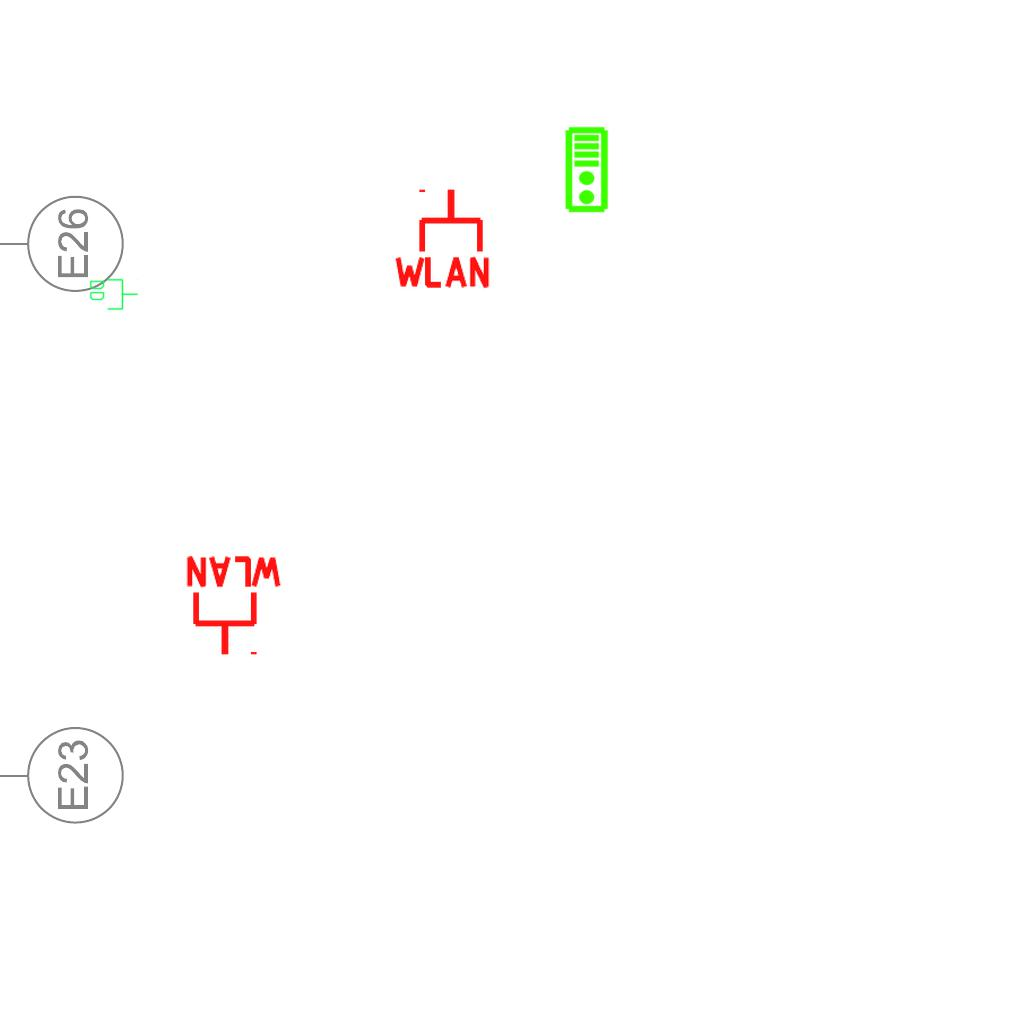Datenanschluss_zweifach: (88, 277, 139, 311)
Gegensprechanlage_mit_Video: (564, 126, 611, 214)
WLAN: (390, 185, 494, 290), (182, 554, 286, 659)
